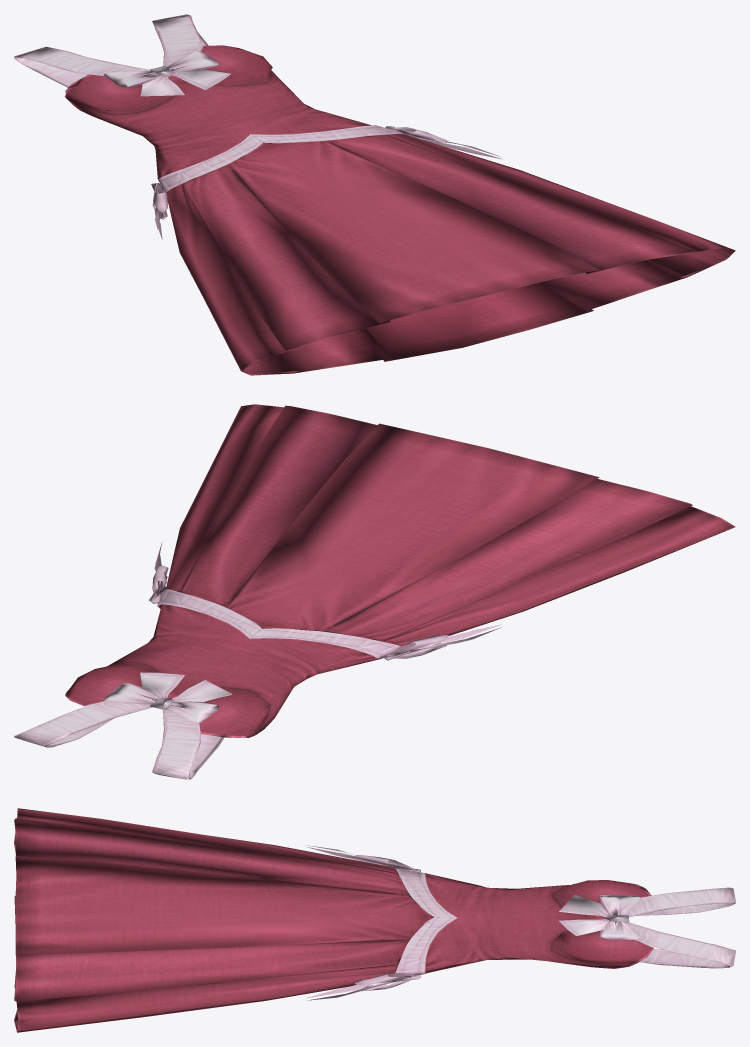
The model's file is CuteDress_Ground.fbx.
3 views of the same model, one above another, from view 1: azimuth 30°, elevation 25°; view 2: azimuth 150°, elevation 25°; view 3: azimuth 270°, elevation 25° (orthographic). The views are drawn at different scales.
Visible parts, largest first — view 1: Cute Dress; view 2: Cute Dress; view 3: Cute Dress.
Part boxes in pixels (<box>): Cute Dress: <box>14,14,735,375</box>; Cute Dress: <box>14,404,735,779</box>; Cute Dress: <box>14,808,735,1032</box>.
Bounding box in the file's own units: 0.3806 × 0.0343 × 0.5209.
